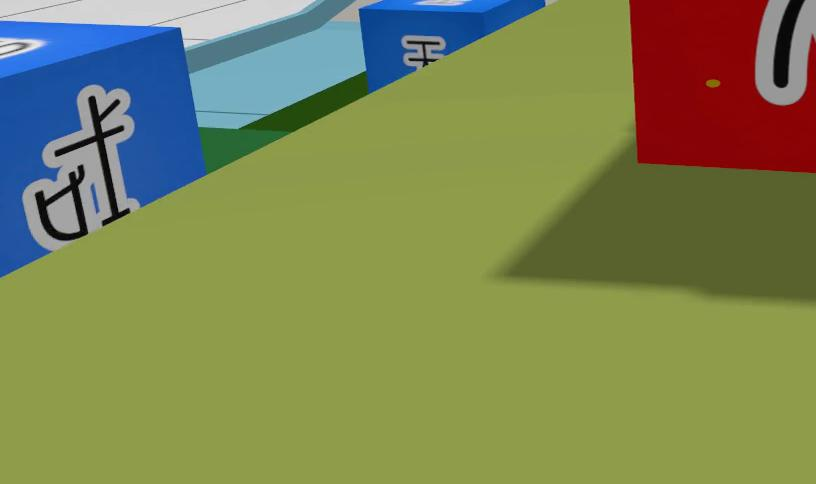KFS_FAKE: (629, 0, 816, 172), (755, 0, 816, 104)
KFS_REAL: (0, 21, 205, 273), (357, 0, 544, 91), (402, 35, 445, 69)
